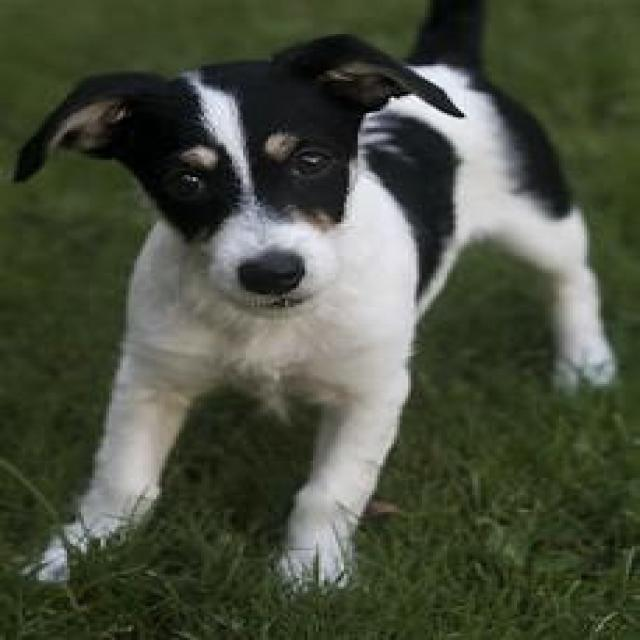KOPEK: (12, 11, 617, 586)
